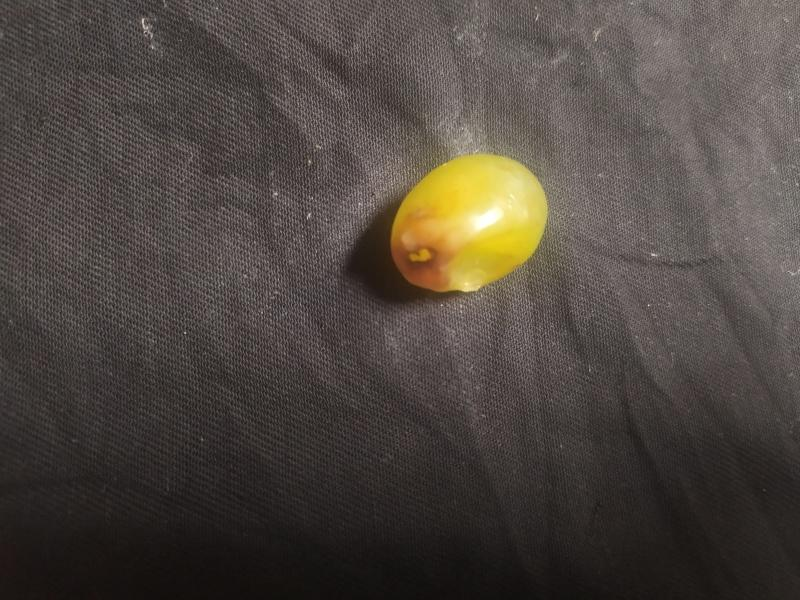Grape Overripe: (388, 151, 551, 295)
